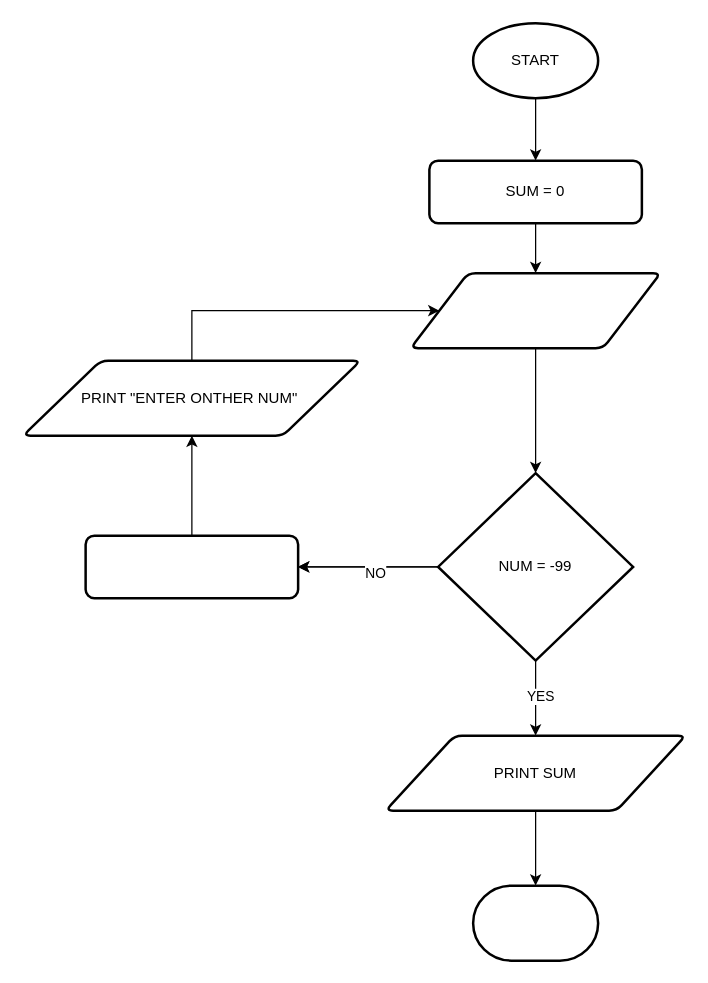
Image size: 708x983. Some labels were removed from this diagram. Each missing label, with the centre of its shape:
END: (535,922)
READ NUM: (535,310)
SUM = SUM + NUM: (191,566)
